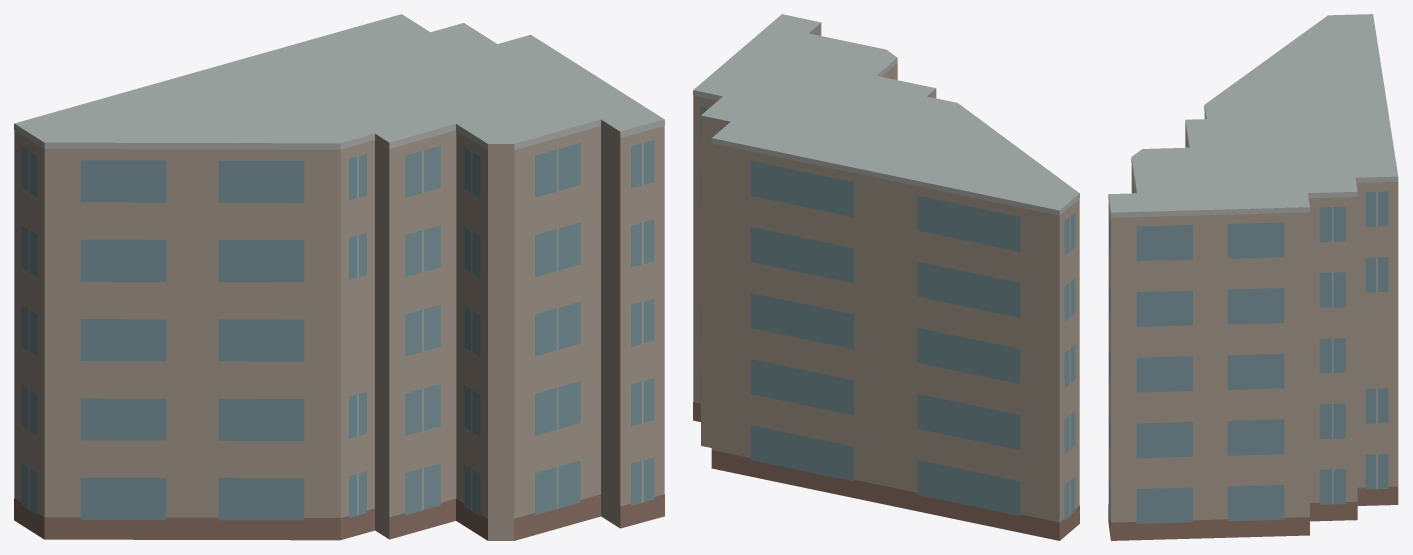
File: survey-upis-32623479.glb
3 renders of one model, left to right at view 1: azimuth 30°, elevation 25°; view 2: azimuth 150°, elevation 25°; view 3: azimuth 270°, elevation 25°, orthographic. The views are drawn at different scales.
Parts seen in each view (by area): view 1: survey-upis-32623479.tmp; view 2: survey-upis-32623479.tmp; view 3: survey-upis-32623479.tmp.
Part boxes in pixels (left/top/right/bottom): survey-upis-32623479.tmp: left=14, top=14, right=664, bottom=540; survey-upis-32623479.tmp: left=693, top=14, right=1079, bottom=540; survey-upis-32623479.tmp: left=1108, top=14, right=1398, bottom=540.
Bounding box in the file's own units: 19.8 × 15.25 × 12.21.
